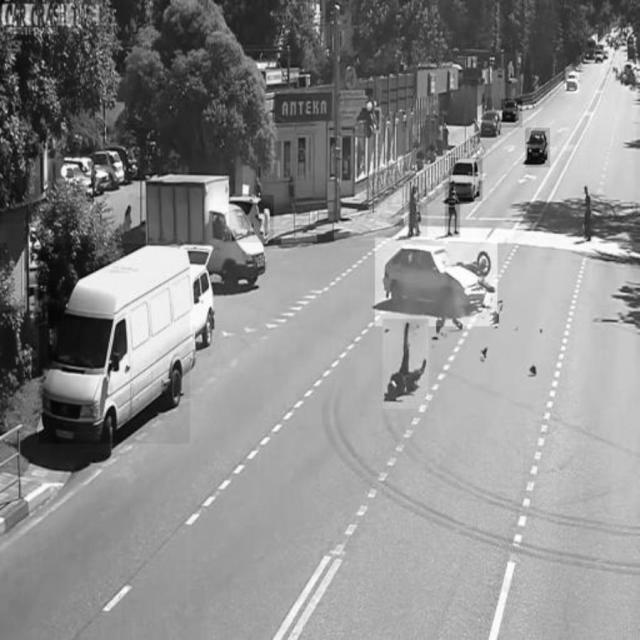accident: (374, 238, 498, 326)
person: (383, 319, 429, 409), (407, 178, 427, 236), (578, 182, 595, 246), (445, 177, 461, 238)
vehicle: (39, 244, 190, 444), (148, 180, 268, 282), (229, 196, 274, 243), (450, 157, 484, 201), (93, 152, 125, 192), (525, 127, 550, 167), (478, 109, 503, 136), (502, 99, 522, 127), (565, 67, 579, 93)
